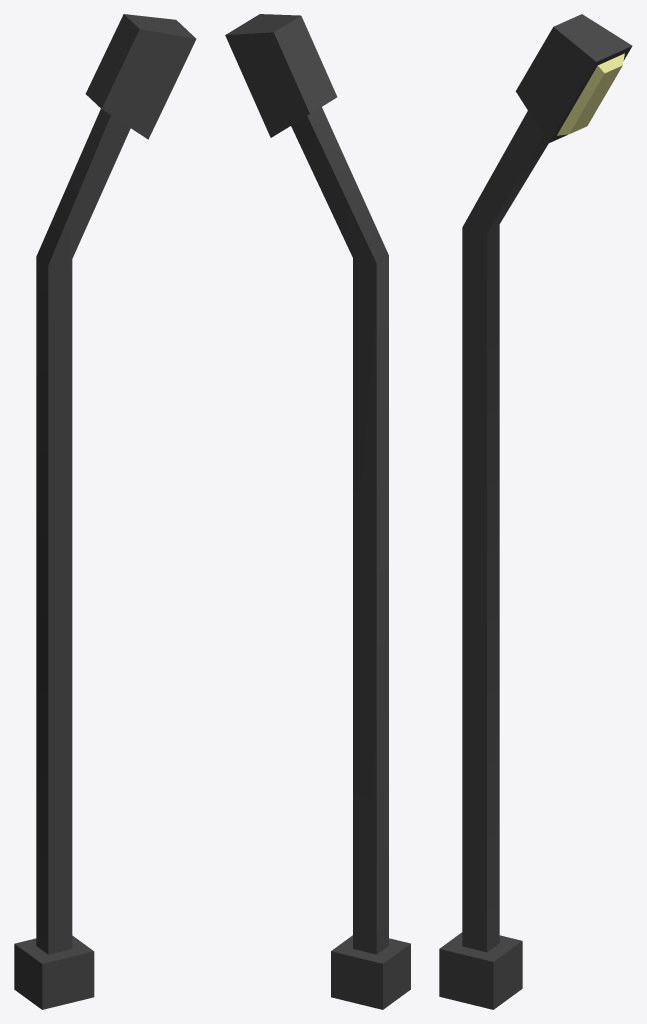
Rendered from wujian07.FBX.
3 renders of one model, left to right at view 1: azimuth 30°, elevation 25°; view 2: azimuth 150°, elevation 25°; view 3: azimuth 330°, elevation 25°, orthographic. The views are drawn at different scales.
Parts seen in each view (by area): view 1: wujian07; view 2: wujian07; view 3: wujian07.
Boxes of the visible parts, <box> form: wujian07: <box>14,14,196,1009</box>; wujian07: <box>225,14,410,1009</box>; wujian07: <box>439,14,632,1009</box>.
Size of the model in its own units: 79.19 by 451 by 26.2.
